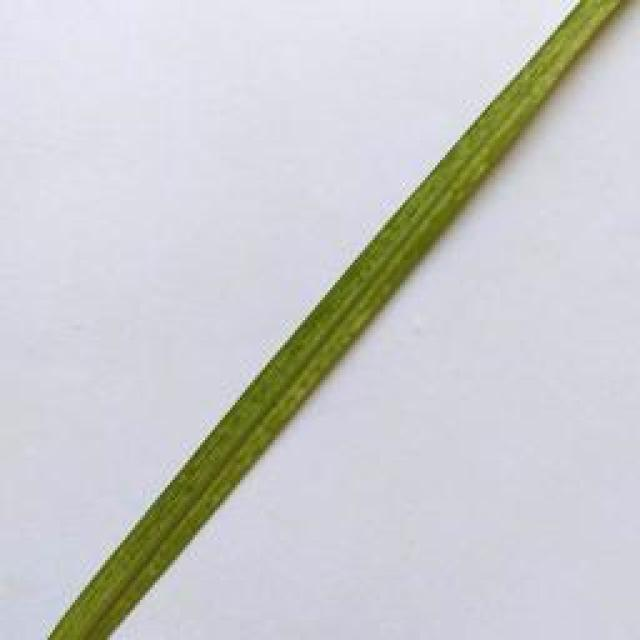Healthy-Plant: (51, 0, 624, 640)
